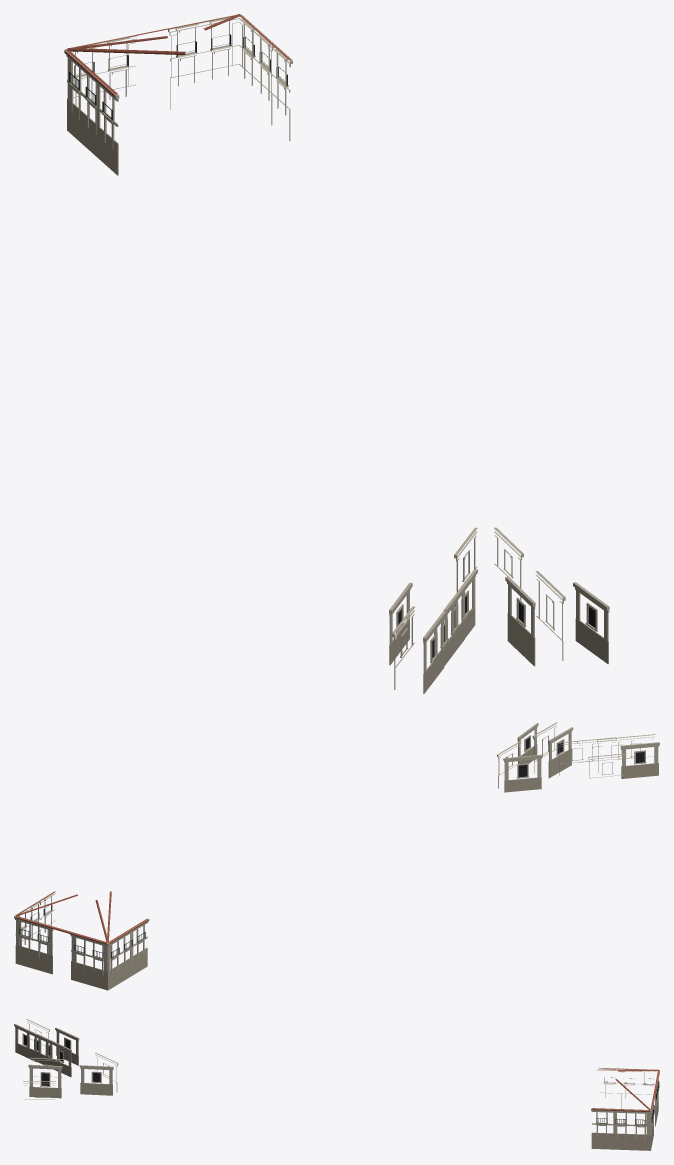
The picture shows the model from 3 angles, top to bottom: view 1: azimuth 30°, elevation 25°; view 2: azimuth 150°, elevation 25°; view 3: azimuth 270°, elevation 25°; orthographic projection. The views are drawn at different scales.
Parts seen in each view (by area): view 1: detail; view 2: detail; view 3: detail.
Part boxes in pixels (left/top/right/bottom): detail: left=64, top=14, right=609, bottom=693; detail: left=14, top=722, right=659, bottom=990; detail: left=14, top=1019, right=659, bottom=1150.
Size of the model in its own units: 44.51 by 13.97 by 105.
